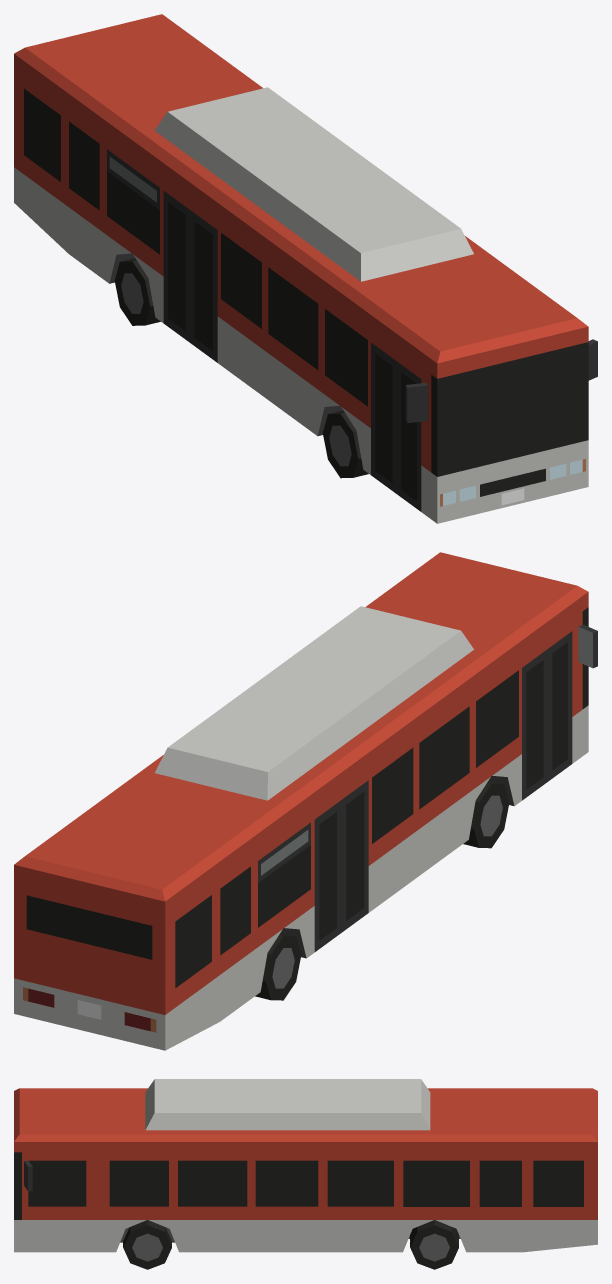
Rendered from Veh_Bus_01_Red.obj.
3 renders of one model, top to bottom at view 1: azimuth 30°, elevation 25°; view 2: azimuth 150°, elevation 25°; view 3: azimuth 270°, elevation 25°, orthographic. The views are drawn at different scales.
Size of the model in its own units: 1.7 by 1.83 by 6.53.
